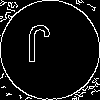J: (25, 25, 51, 72)
